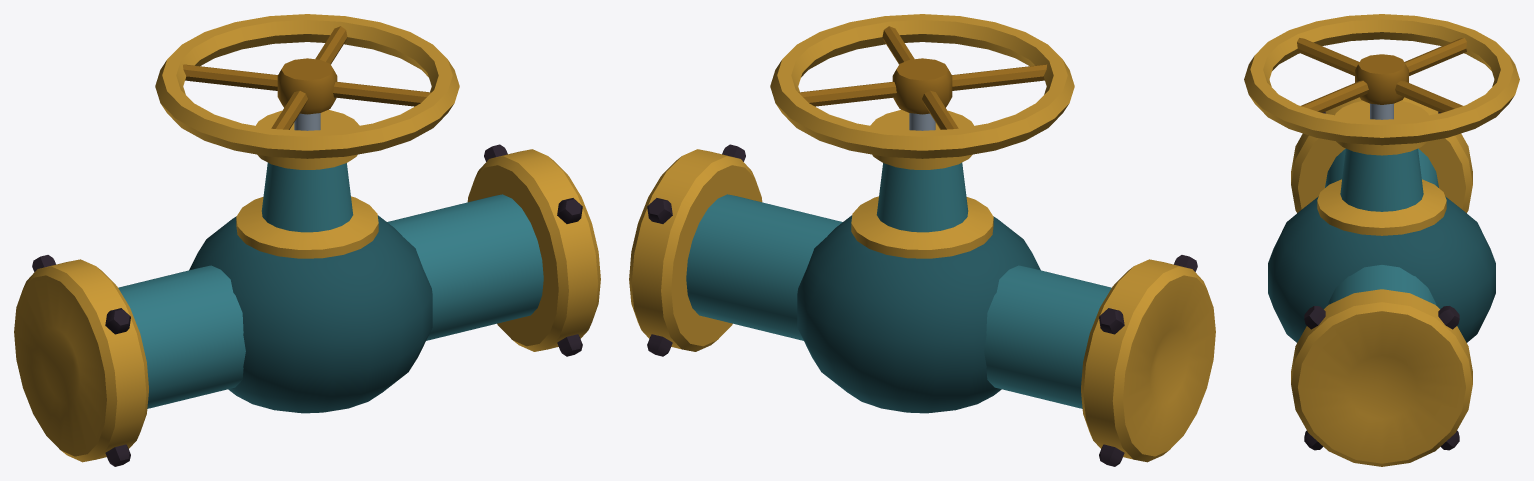
File: Valve_13.glb
The picture shows the model from 3 angles, left to right: view 1: azimuth 30°, elevation 25°; view 2: azimuth 150°, elevation 25°; view 3: azimuth 270°, elevation 25°; orthographic projection. The views are drawn at different scales.
Parts seen in each view (by area): view 1: Valve_13; view 2: Valve_13; view 3: Valve_13.
Boxes of the visible parts, box(x1,y1,x2,y2) form: Valve_13: box(14, 14, 600, 466); Valve_13: box(629, 14, 1215, 466); Valve_13: box(1244, 14, 1519, 466).
Size of the model in its own units: 3.04 by 1.95 by 1.63.
